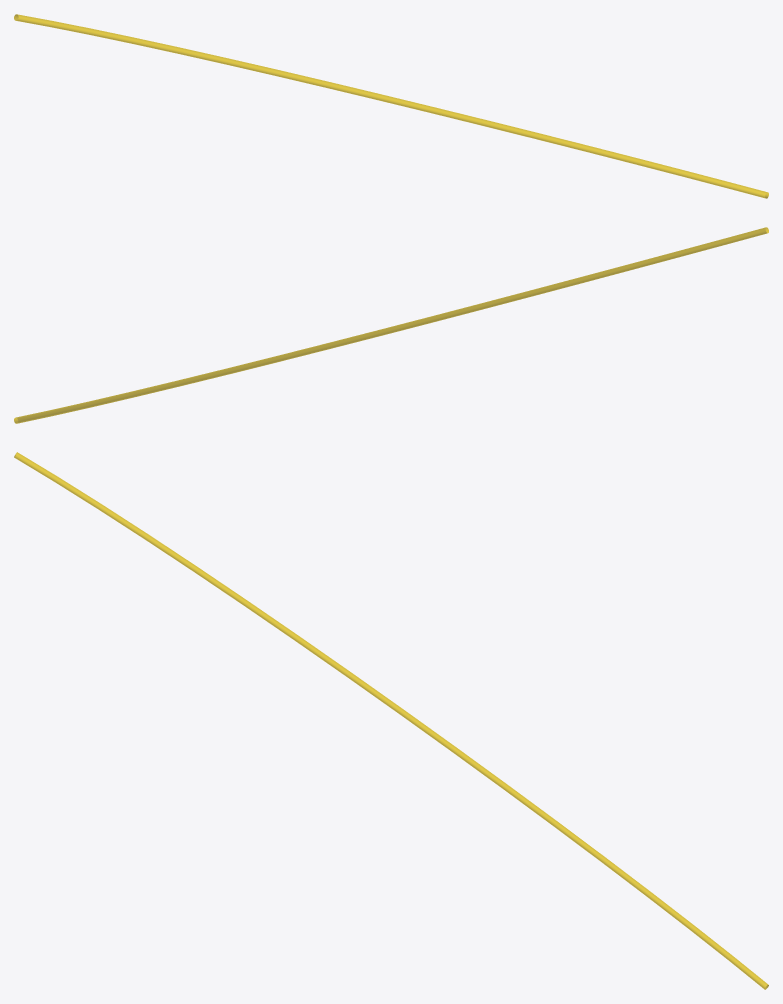
The model's file is Event_84804159_track_18.fbx.
3 renders of one model, top to bottom at view 1: azimuth 30°, elevation 25°; view 2: azimuth 150°, elevation 25°; view 3: azimuth 330°, elevation 25°, orthographic. The views are drawn at different scales.
Visible parts, largest first — view 1: Model; view 2: Model; view 3: Model.
Part boxes in pixels (box(x1,y1,x2,y2)): Model: box(14, 14, 768, 198); Model: box(14, 227, 768, 423); Model: box(14, 452, 768, 989).
Bounding box in the file's own units: 5.38 × 2.54 × 0.2698.
